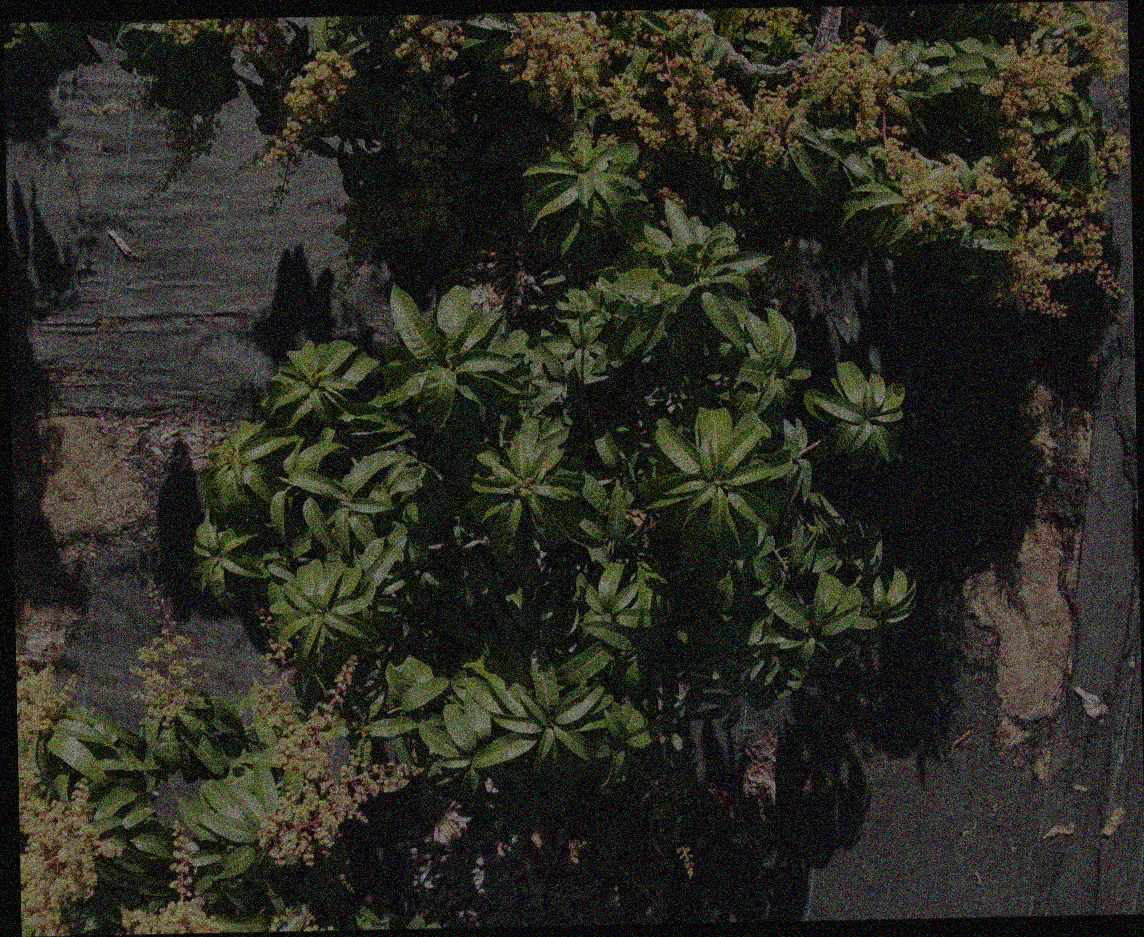flowers: (501, 9, 806, 167), (254, 658, 418, 865), (897, 154, 1104, 312), (723, 6, 920, 158), (19, 763, 121, 935), (129, 582, 208, 726), (120, 821, 219, 933), (980, 41, 1078, 121), (281, 50, 357, 146), (16, 656, 77, 739), (1074, 0, 1128, 82), (390, 14, 464, 73), (735, 7, 807, 51), (164, 18, 283, 43), (1005, 132, 1053, 192), (256, 607, 292, 678), (169, 820, 195, 901), (266, 903, 336, 931), (1006, 1, 1064, 32), (1097, 130, 1130, 175)
